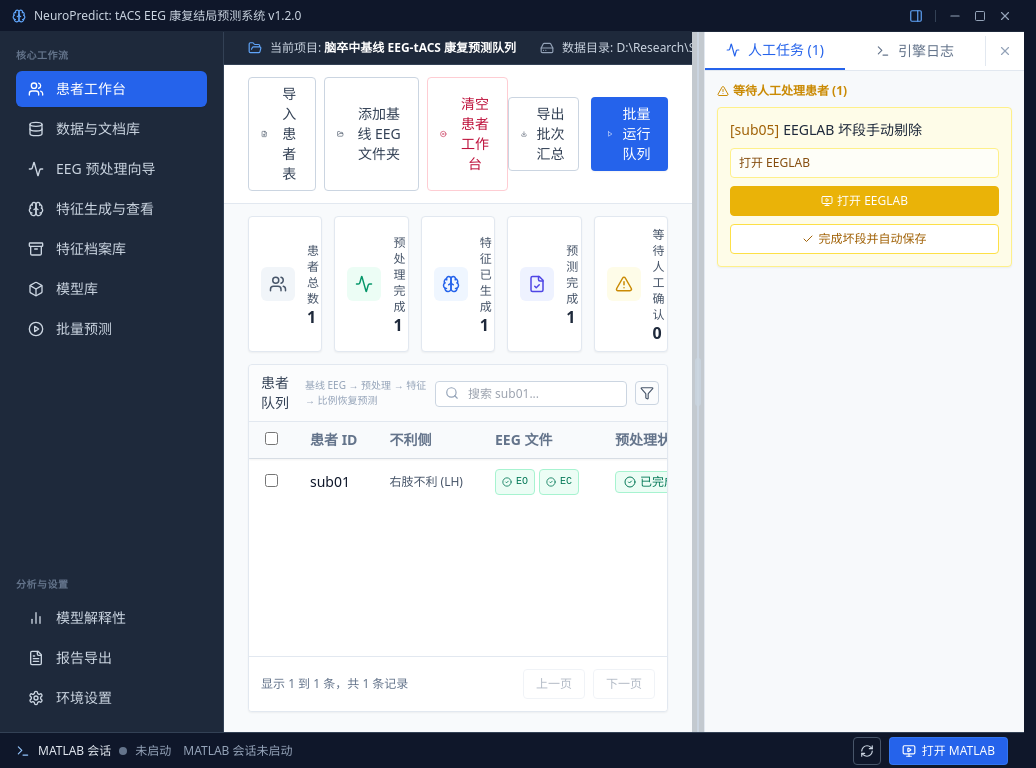
Test: Gemini patient workbench shell › opens the persistent MATLAB session from the bottom status bar
This screenshot has width=1036, height=768.
Check: the text "MATLAB 会话未启动" is shown, box [183, 742, 293, 758]
Click the button "打开 MATLAB": (948, 750) [889, 736, 1008, 764]
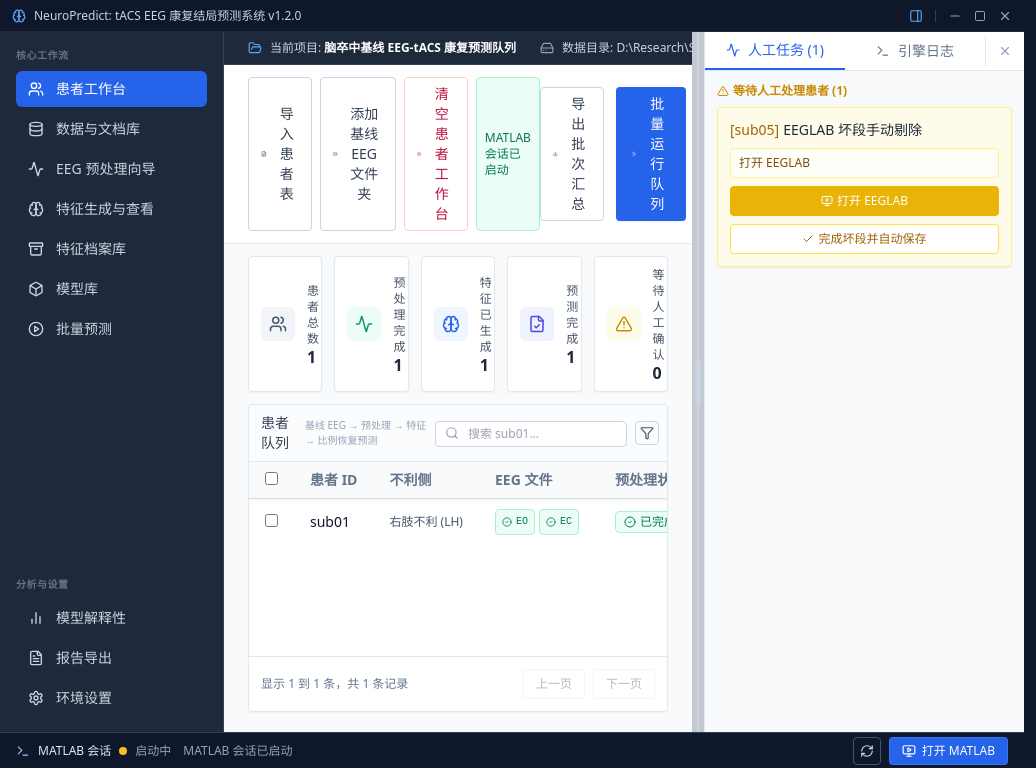
Check: the text "MATLAB 会话已启动" below "当前项目:" is shown, box [485, 129, 531, 178]
